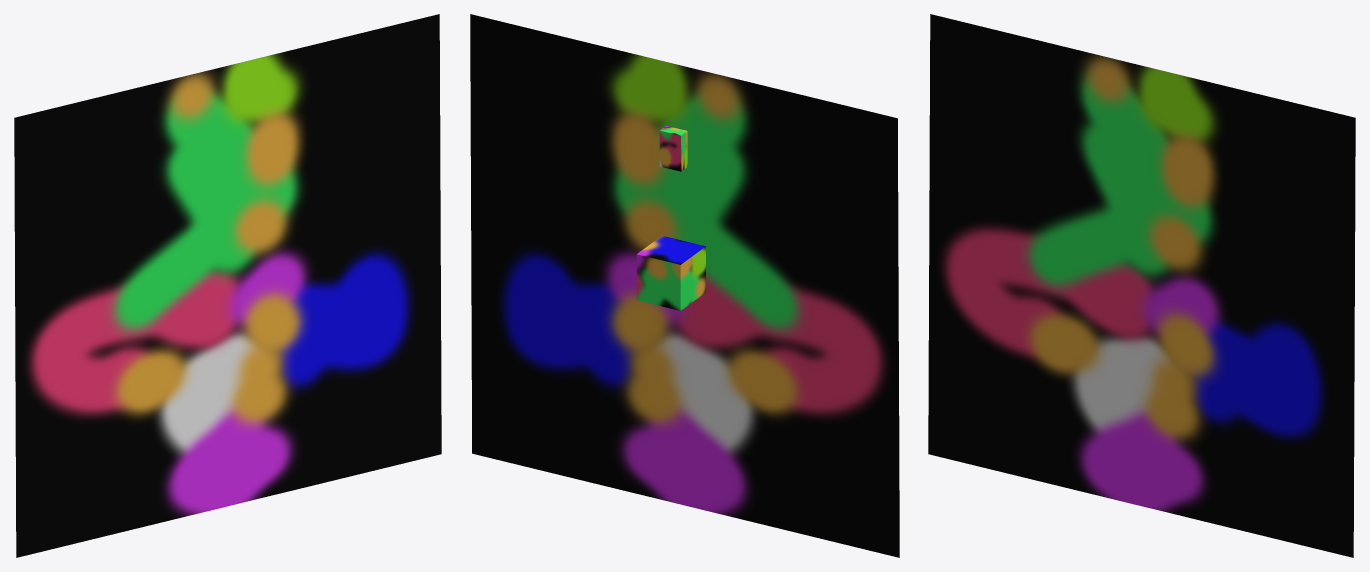
The model's file is level.gltf.
3 views of the same model, side by side, from view 1: azimuth 30°, elevation 25°; view 2: azimuth 150°, elevation 25°; view 3: azimuth 330°, elevation 25° (orthographic).
Parts seen in each view (by area): view 1: Plane.001; view 2: Plane.001, Cube, Cube.001; view 3: Plane.001.
Part boxes in pixels (x1,y1,x2,y2): Plane.001: (14,14,441,557); Plane.001: (470,14,899,557); Cube: (636,235,705,310); Cube.001: (659,125,687,171); Plane.001: (928,14,1355,557).
Size of the model in its own units: 19.44 by 19.16 by 2.23.
Materials: 2 (2 with a texture image).
